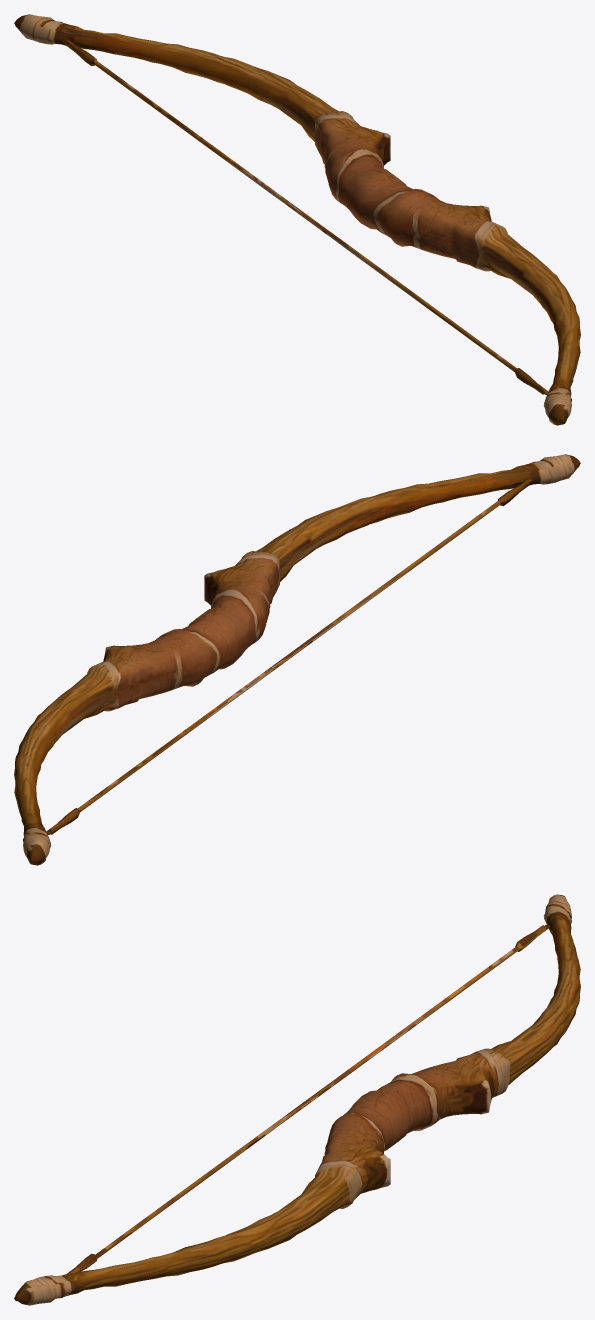
The model's file is bow0.glb.
3 views of the same model, one above another, from view 1: azimuth 30°, elevation 25°; view 2: azimuth 150°, elevation 25°; view 3: azimuth 330°, elevation 25° (orthographic).
Parts seen in each view (by area): view 1: tripo_node_3618a0ad; view 2: tripo_node_3618a0ad; view 3: tripo_node_3618a0ad.
Part boxes in pixels (left/top/right/bottom): tripo_node_3618a0ad: left=14, top=14, right=580, bottom=425; tripo_node_3618a0ad: left=14, top=454, right=580, bottom=865; tripo_node_3618a0ad: left=14, top=894, right=580, bottom=1305.
Size of the model in its own units: 0.1476 by 0.0504 by 0.9014.
1 material, 1 textured.
